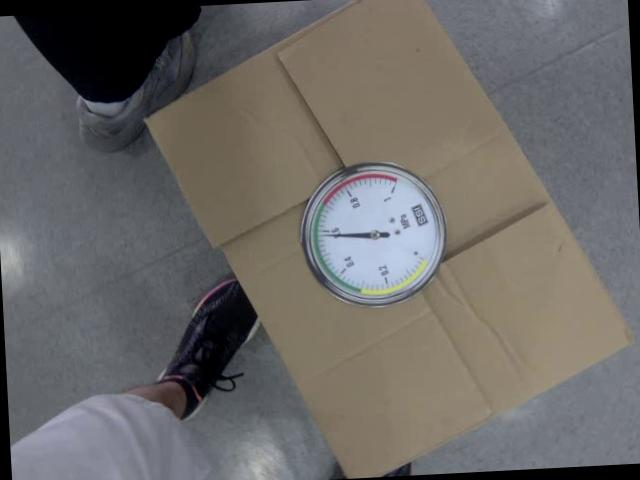Dashboard: (296, 160, 450, 310)
ssi: (410, 199, 430, 228)
